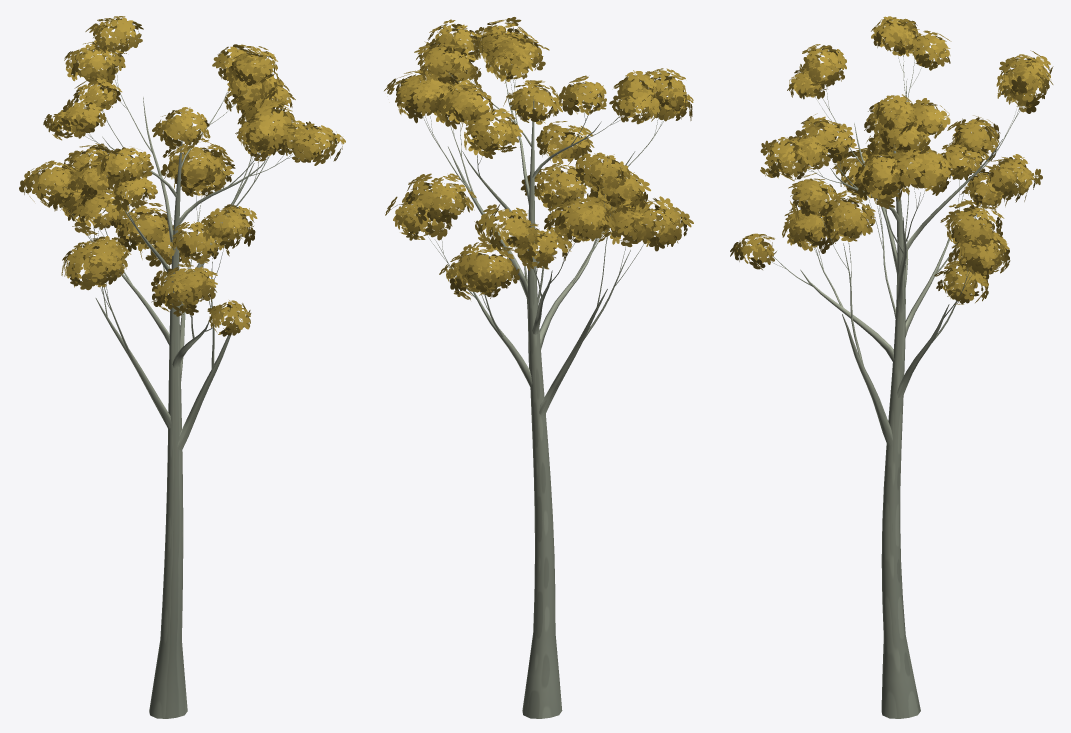
The model's file is tree.gltf.
The picture shows the model from 3 angles, left to right: view 1: azimuth 30°, elevation 25°; view 2: azimuth 150°, elevation 25°; view 3: azimuth 270°, elevation 25°; orthographic projection. The views are drawn at different scales.
Visible parts, largest first — view 1: Tree_LOD0; view 2: Tree_LOD0; view 3: Tree_LOD0.
Boxes of the visible parts, x1=… form: Tree_LOD0: x1=19, y1=16, x2=345, y2=718; Tree_LOD0: x1=384, y1=17, x2=693, y2=718; Tree_LOD0: x1=730, y1=16, x2=1053, y2=718.
Bounding box in the file's own units: 10.86 × 25.26 × 11.46.
Materials: 2 (2 with a texture image).
